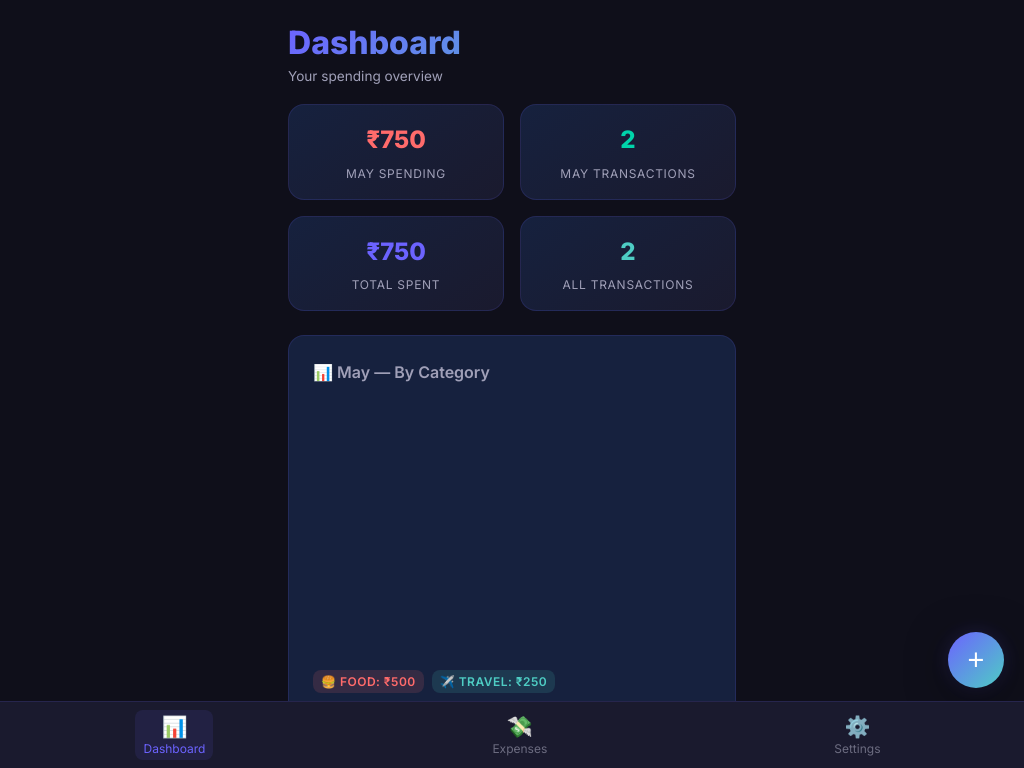
Test: Edit/Delete Expense — Integration › renders expense list with items
The image size is (1024, 768).
Expected: the text "Dashboard" is shown, x1=144 y1=741 x2=205 y2=756
Click the text "Expenses" at [520, 748], box x1=492 y1=741 x2=547 y2=756
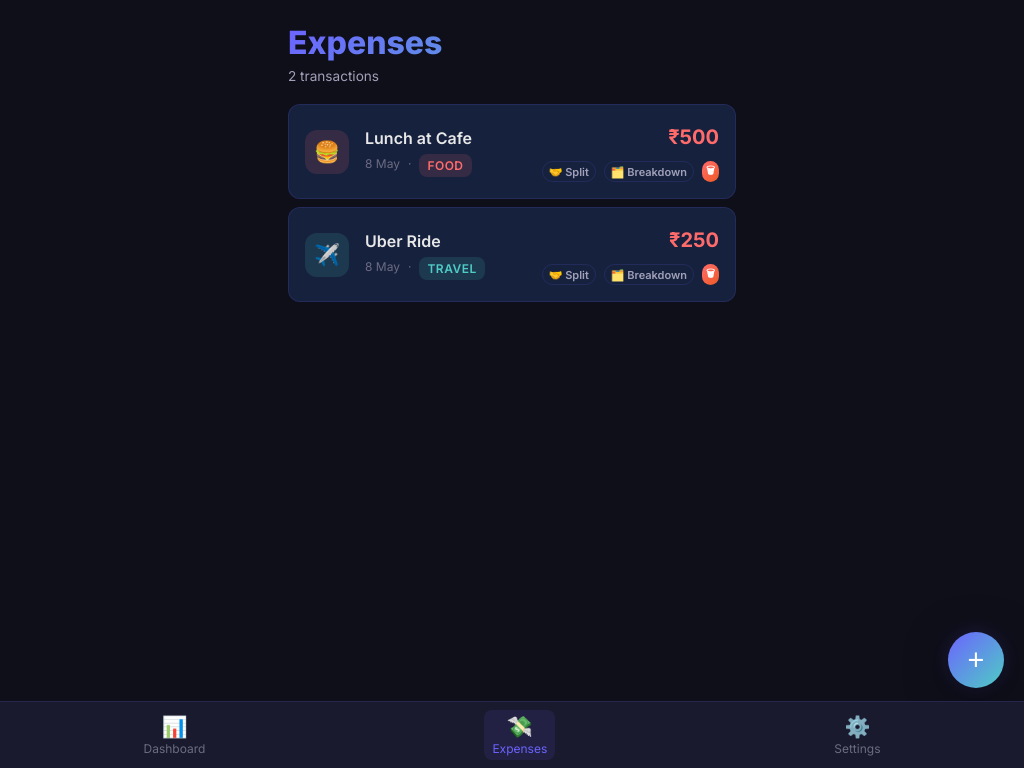
Expected: the text "Lunch at Cafe" is shown, x1=365 y1=128 x2=472 y2=148
Expected: the text "Uber Ride" is shown, x1=365 y1=231 x2=441 y2=251
